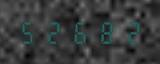eight: (93, 20, 117, 44)
five: (18, 20, 42, 44)
six: (68, 20, 92, 44)
two: (43, 20, 67, 44), (118, 20, 142, 44)
